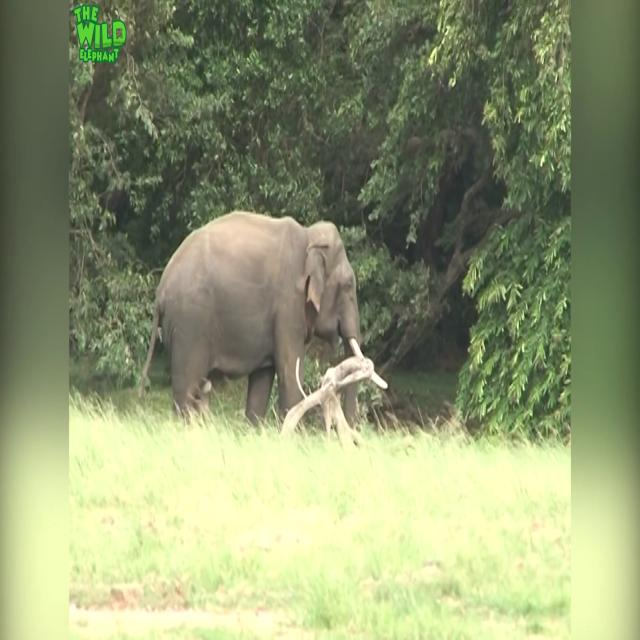Elephant: (138, 208, 367, 432)
